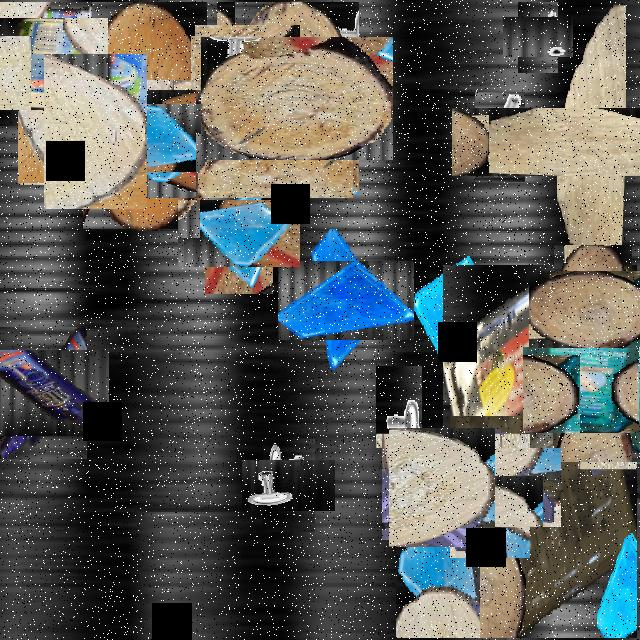glass: (396, 489, 480, 638), (434, 432, 546, 542), (294, 245, 404, 356), (192, 186, 286, 280), (414, 247, 482, 368)
metal: (205, 13, 288, 97), (253, 449, 325, 522), (465, 102, 535, 172), (376, 366, 422, 448), (510, 10, 566, 65)
plastic: (443, 265, 637, 638), (538, 331, 640, 447), (0, 9, 100, 118), (0, 338, 98, 447)
wood: (83, 2, 207, 229), (164, 63, 326, 225), (218, 19, 376, 177), (504, 54, 640, 229), (31, 67, 161, 196), (386, 430, 498, 544), (541, 258, 640, 361)
